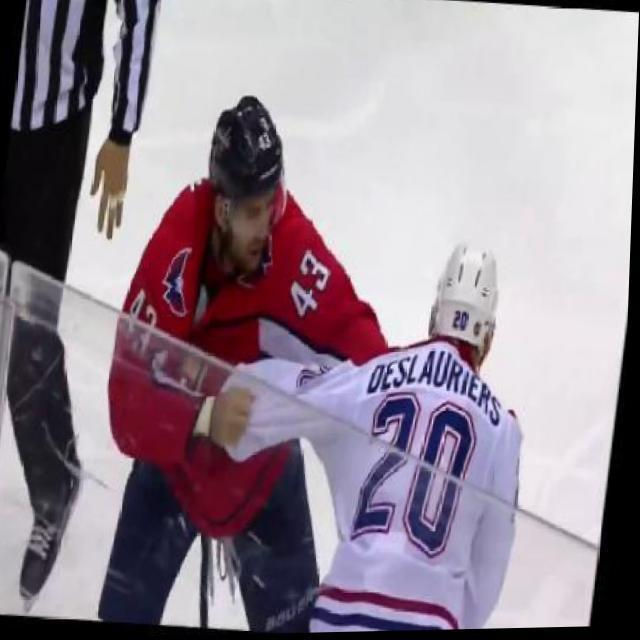fight: (86, 83, 573, 636)
